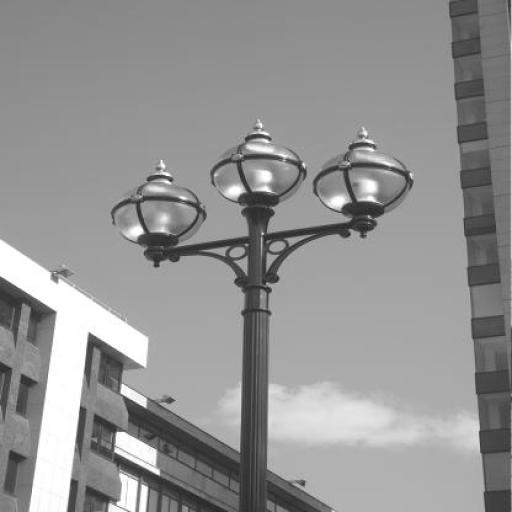street light: (109, 118, 413, 512)
